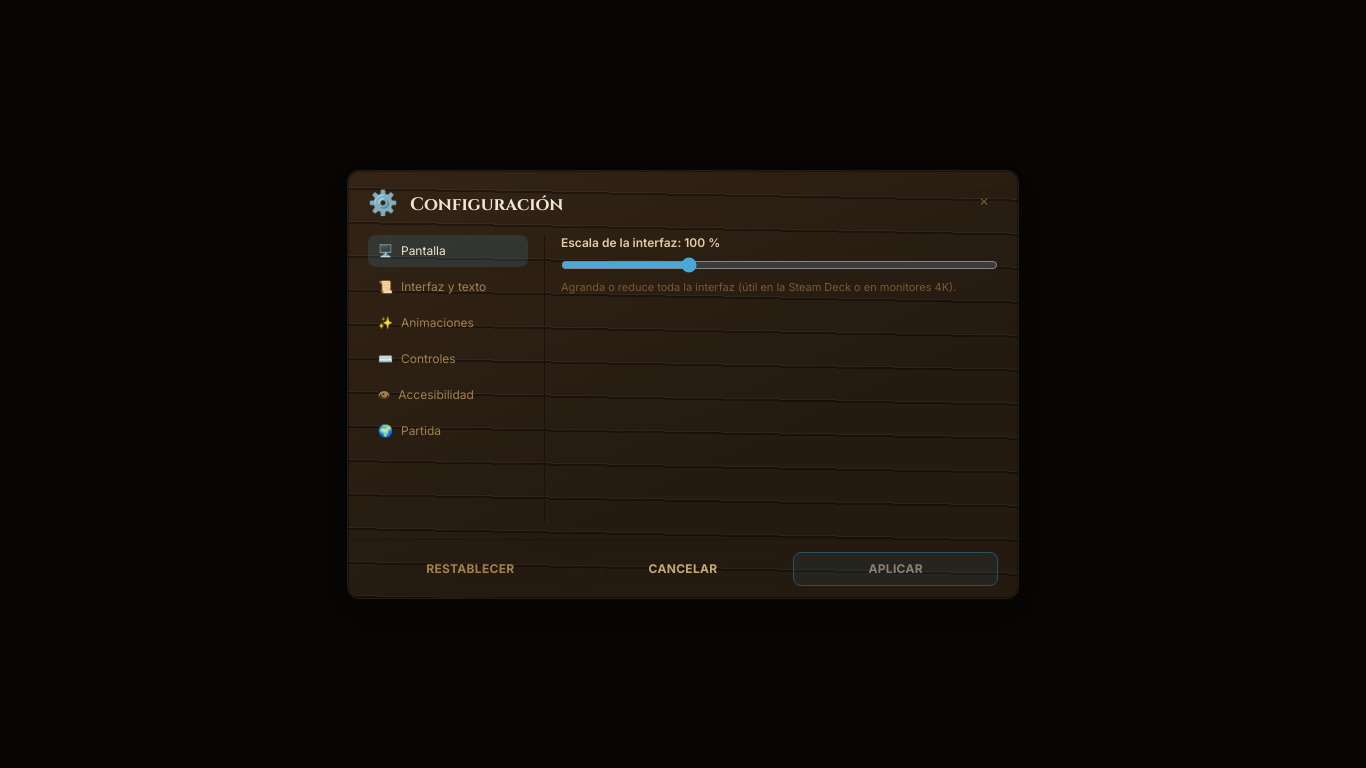
Test: CR-12 — ritmo del mundo en Configuración › P257: el texto bajo la intensidad cambia con el nivel elegido
Step 1. Click the button "🌍 Partida" → [448, 430], box [368,414,528,446]
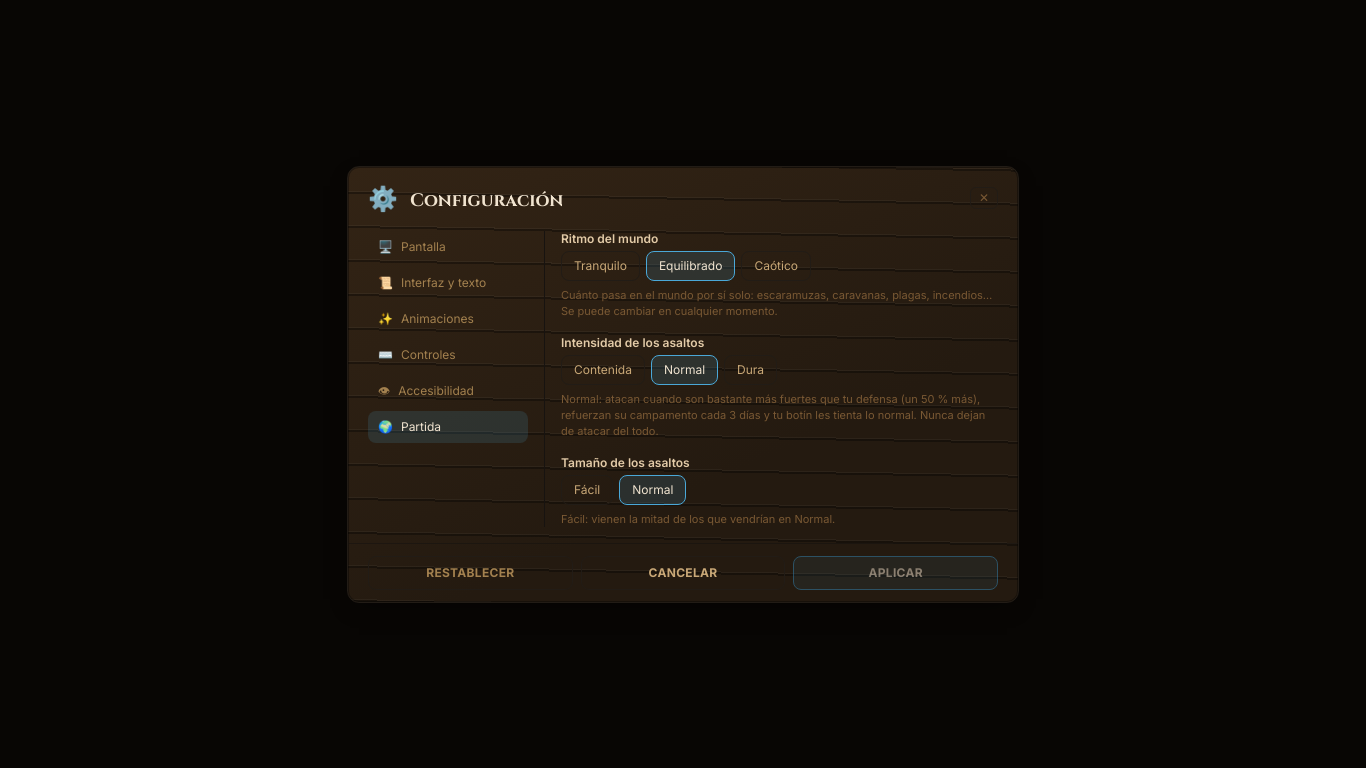
Result: the radio button labelled "Dura" is shown
Result: the text "Normal: atacan cuando son bastante más fuertes" is shown at [561,392,985,438]
Step 2. Click the radio button labelled "Dura" → [750, 370], box [724,354,777,384]
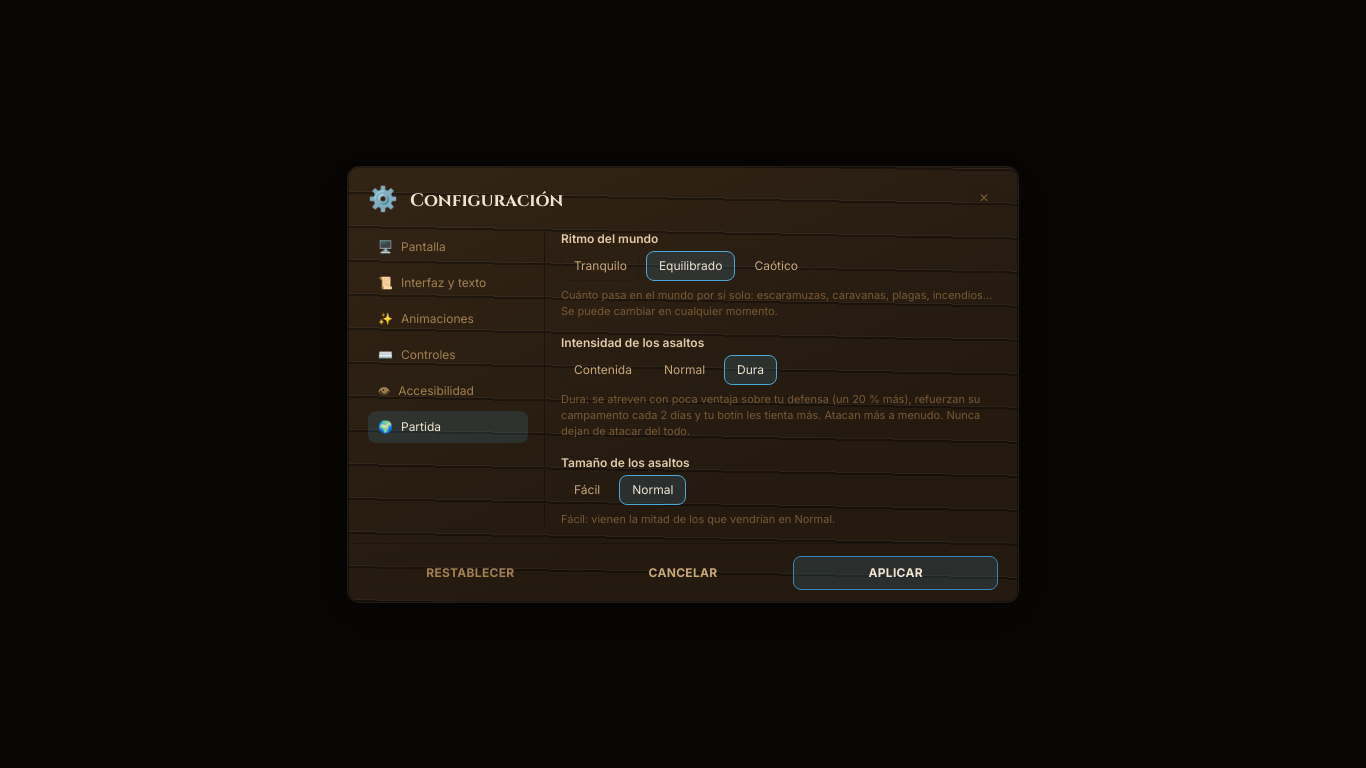
Result: the text "Dura: se atreven con poca ventaja" is shown at [561,392,980,438]
Result: the text "Normal: atacan cuando" is gone
